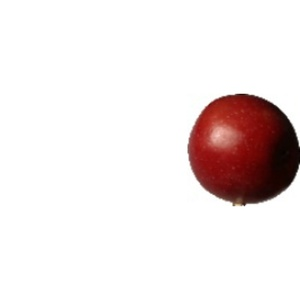maçã braeburn: (186, 91, 300, 201)
